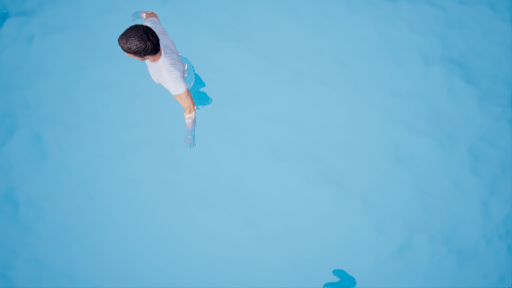person: (117, 4, 221, 149)
